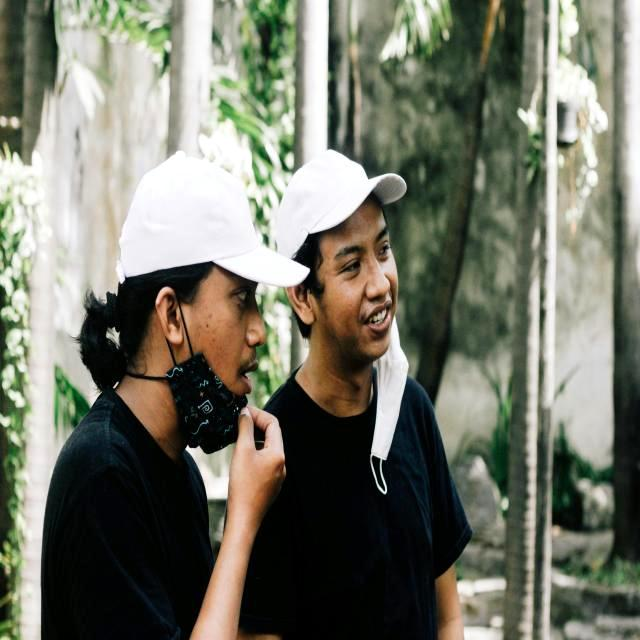no_hard_hat: (116, 151, 309, 287), (277, 149, 406, 259)
person: (41, 263, 285, 640), (266, 194, 471, 640)
